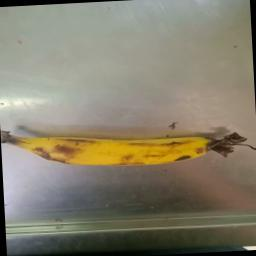Banana Unripe: (5, 96, 256, 189)
